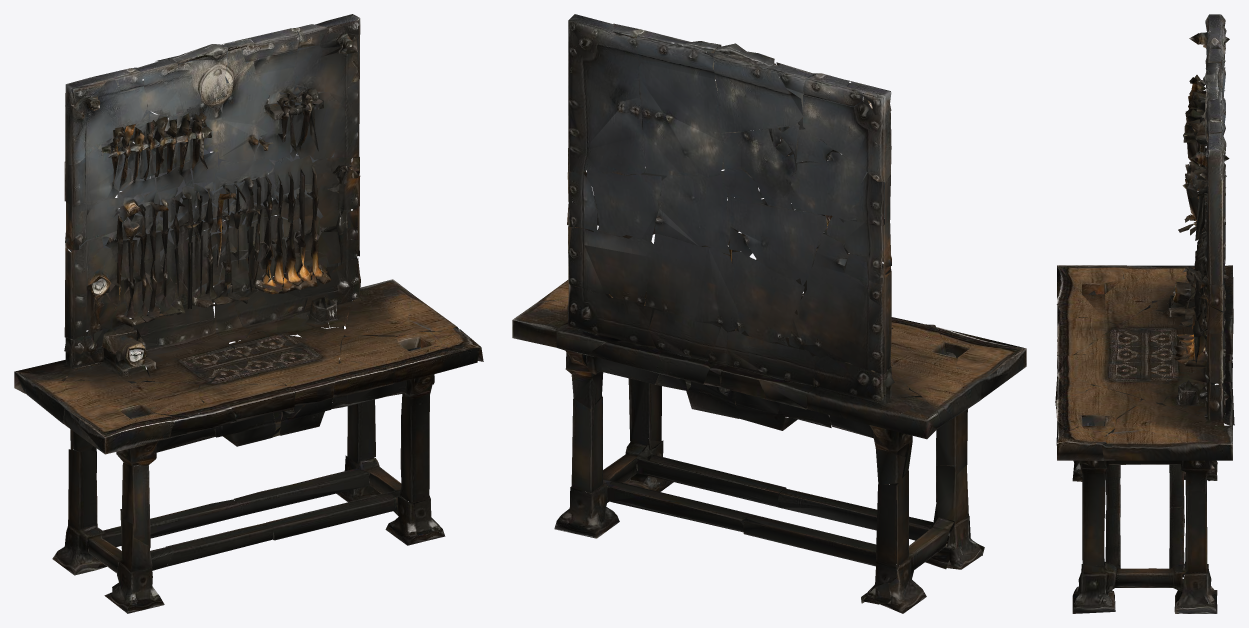
Rendered from gun_bench.glb.
3 renders of one model, left to right at view 1: azimuth 30°, elevation 25°; view 2: azimuth 150°, elevation 25°; view 3: azimuth 270°, elevation 25°, orthographic. The views are drawn at different scales.
Visible parts, largest first — view 1: Mesh_0; view 2: Mesh_0; view 3: Mesh_0.
Boxes of the visible parts, bbox=[...] form: Mesh_0: bbox=[14, 14, 483, 613]; Mesh_0: bbox=[512, 14, 1026, 613]; Mesh_0: bbox=[1055, 14, 1234, 613].
Size of the model in its own units: 1.57 by 1.9 by 0.6638.
1 material, 1 textured.
